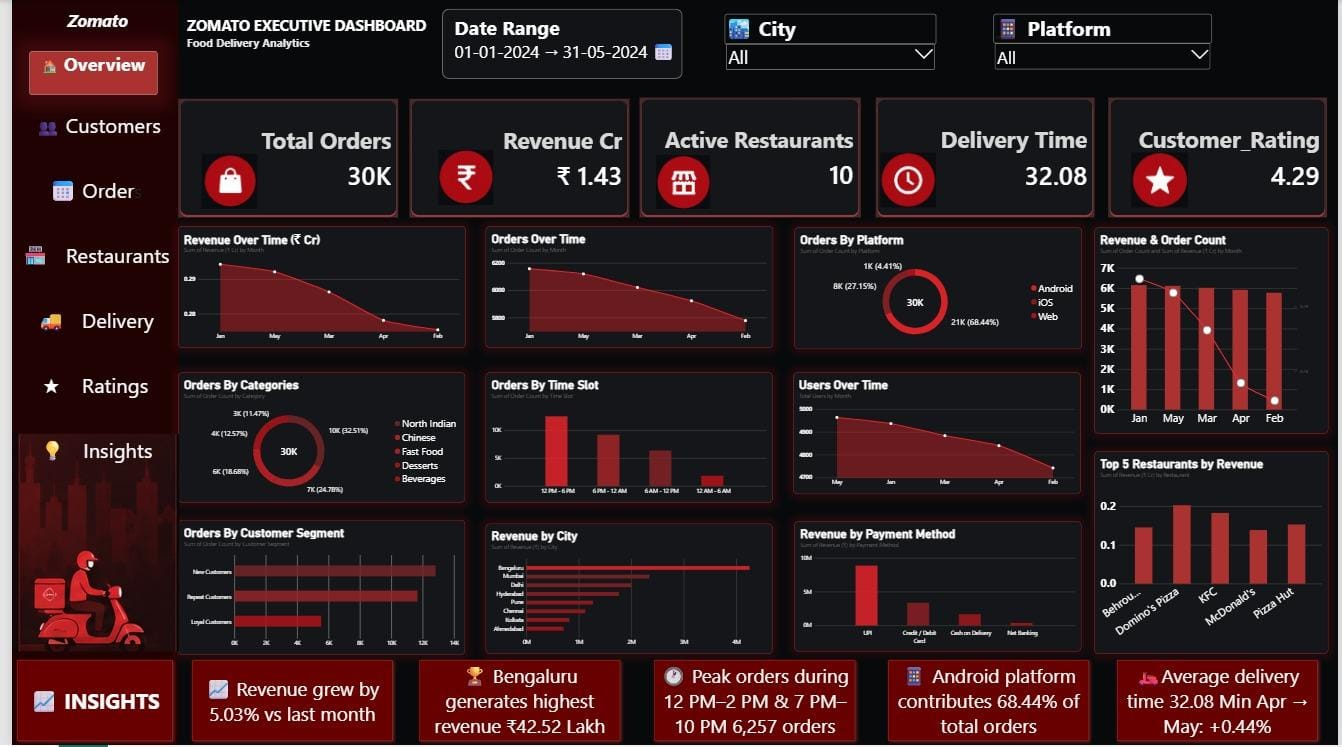

This screenshot's page, from the dashboard's own definition file:
{"tool":"powerbi","page":{"name":"Page 1","canvas":[3840,2160],"ordinal":0},"visuals":[{"type":"shape","box":[0,0,481.4,2160.7],"z":0},{"type":"textbox","box":[14.5,25.3,466.9,126.7],"z":1000},{"type":"textbox","box":[506.7,25.3,897.6,152],"z":2000},{"type":"shape","box":[1246.7,26.7,696.7,203.3],"z":3000},{"type":"textbox","box":[50,150,370,126.7],"z":4000},{"type":"cardVisual","fields":{"Data":["Orders_Data.Total Orders"]},"box":[481.4,285.9,637,343.8],"z":5000},{"type":"image","box":[539.3,444.6,181,159],"z":6000},{"type":"cardVisual","fields":{"Data":["Orders_Data.Revenue Cr"]},"box":[1150.9,285.9,637,343.8],"z":7000},{"type":"cardVisual","fields":{"Data":["Orders_Data.Active Restaurants"]},"box":[1816.9,282.3,640.6,347.5],"z":8000},{"type":"cardVisual","fields":{"Data":["Orders_Data.Avg Delivery Time"]},"box":[2501,282.3,633.4,347.5],"z":9000},{"type":"cardVisual","fields":{"Data":["Orders_Data.Customer_Rating"]},"box":[3174.1,282.3,633.4,347.5],"z":10000},{"type":"image","box":[1223.3,434.3,181,159.3],"z":11000},{"type":"image","box":[1824.1,448.8,238.9,155.6],"z":12000},{"type":"image","box":[2502.9,440.5,181,159],"z":13000},{"type":"image","box":[3231.6,440.5,181,159],"z":14000},{"type":"areaChart","title":" Revenue Over Time (₹ Cr)","fields":{"Category":["Orders_Data.Month"],"Y":["Sum(Orders_Data.Revenue (₹ Cr))"]},"box":[481.8,656.8,831.8,352.3],"z":15000},{"type":"areaChart","title":"Orders Over Time ","fields":{"Category":["Orders_Data.Month"],"Y":["Sum(Orders_Data.Order Count)"]},"box":[1371.8,656.4,831.8,352.3],"z":16000},{"type":"donutChart","title":"Orders By Platform","fields":{"Category":["Orders_Data.Platform"],"Y":["Sum(Orders_Data.Order Count)"]},"box":[2266.7,659,831.8,352.3],"z":17000},{"type":"donutChart","title":"Orders By Categories","fields":{"Category":["Orders_Data.Category"],"Y":["Sum(Orders_Data.Order Count)"]},"box":[482.1,1079.5,830.8,376.9],"z":18000},{"type":"clusteredColumnChart","title":"Orders By Time Slot","fields":{"Category":["Orders_Data.Time Slot"],"Y":["Sum(Orders_Data.Order Count)"]},"box":[1372.5,1080,830.8,376.9],"z":19000},{"type":"clusteredBarChart","title":"Orders By Customer Segment","fields":{"Category":["Orders_Data.Customer Segment"],"Y":["Sum(Orders_Data.Order Count)"]},"box":[480,1506.7,830,390],"z":20000},{"type":"clusteredBarChart","title":"Revenue by City","fields":{"Category":["Orders_Data.City"],"Y":["Sum(Orders_Data.Revenue (₹))"]},"box":[1372.4,1517.2,830.8,376.9],"z":21000},{"type":"clusteredColumnChart","title":"Revenue by Payment Method","fields":{"Y":["Sum(Orders_Data.Revenue (₹))"],"Category":["Orders_Data.Payment Method"]},"box":[2265.5,1510.3,830.8,376.9],"z":22000},{"type":"areaChart","title":"Users Over Time ","fields":{"Category":["Orders_Data.Month"],"Y":["Orders_Data.Total Users"]},"box":[2262.1,1079.3,831.8,352.3],"z":23000},{"type":"lineStackedColumnComboChart","title":"Revenue & Order Count","fields":{"Category":["Orders_Data.Month"],"Y":["Sum(Orders_Data.Order Count)"],"Y2":["Sum(Orders_Data.Revenue (₹ Cr))"]},"box":[3133.3,660,676.7,596.7],"z":24000},{"type":"clusteredColumnChart","title":"Top 5 Restaurants by Revenue","fields":{"Category":["Orders_Data.Restaurant"],"Y":["Sum(Orders_Data.Revenue (₹ Cr))"]},"box":[3133.3,1306.7,676.7,586.7],"z":25000},{"type":"image","box":[0,1256.7,483.3,630],"z":26000},{"type":"textbox","box":[0,321.9,484.4,1309.4],"z":27000},{"type":"textbox","box":[1280,40,663.3,173.3],"z":28000},{"type":"slicer","fields":{"Values":["Orders_Data.City"]},"box":[2063.3,100,613.3,113.3],"z":29000},{"type":"textbox","box":[2063.3,40,613.3,90],"z":30000},{"type":"textbox","box":[2840,40,633.3,86.7],"z":31000},{"type":"slicer","fields":{"Values":["Orders_Data.Platform"]},"box":[2840,100,633.3,130],"z":32000},{"type":"shape","box":[0,1896.7,480,263.3],"z":33000},{"type":"shape","box":[506.7,1896.7,610,263.3],"z":34000},{"type":"shape","box":[1166.7,1896.7,610,263.3],"z":35000},{"type":"shape","box":[1846.7,1896.7,610,263.3],"z":36000},{"type":"shape","box":[2523.3,1896.7,610,263.3],"z":37000},{"type":"shape","box":[3183.3,1896.7,610,263.3],"z":38000}]}

Visuals, with their boxes on the page's 3840x2160 design canvas (x1, y1, x2, y2). These are canvas units, not pixel positions in the 1342x747 screenshot, which may show the page scaled, cropped or inside an application window:
shape: box=[0, 0, 481, 2161]
textbox: box=[14, 25, 481, 152]
textbox: box=[507, 25, 1404, 177]
shape: box=[1247, 27, 1943, 230]
textbox: box=[50, 150, 420, 277]
cardVisual - Orders_Data.Total Orders: box=[481, 286, 1118, 630]
image: box=[539, 445, 720, 604]
cardVisual - Orders_Data.Revenue Cr: box=[1151, 286, 1788, 630]
cardVisual - Orders_Data.Active Restaurants: box=[1817, 282, 2458, 630]
cardVisual - Orders_Data.Avg Delivery Time: box=[2501, 282, 3134, 630]
cardVisual - Orders_Data.Customer_Rating: box=[3174, 282, 3808, 630]
image: box=[1223, 434, 1404, 594]
image: box=[1824, 449, 2063, 604]
image: box=[2503, 440, 2684, 600]
image: box=[3232, 440, 3413, 600]
" Revenue Over Time (₹ Cr)" areaChart: box=[482, 657, 1314, 1009]
"Orders Over Time " areaChart: box=[1372, 656, 2204, 1009]
"Orders By Platform" donutChart: box=[2267, 659, 3098, 1011]
"Orders By Categories" donutChart: box=[482, 1080, 1313, 1456]
"Orders By Time Slot" clusteredColumnChart: box=[1372, 1080, 2203, 1457]
"Orders By Customer Segment" clusteredBarChart: box=[480, 1507, 1310, 1897]
"Revenue by City" clusteredBarChart: box=[1372, 1517, 2203, 1894]
"Revenue by Payment Method" clusteredColumnChart: box=[2266, 1510, 3096, 1887]
"Users Over Time " areaChart: box=[2262, 1079, 3094, 1432]
"Revenue & Order Count" lineStackedColumnComboChart: box=[3133, 660, 3810, 1257]
"Top 5 Restaurants by Revenue" clusteredColumnChart: box=[3133, 1307, 3810, 1893]
image: box=[0, 1257, 483, 1887]
textbox: box=[0, 322, 484, 1631]
textbox: box=[1280, 40, 1943, 213]
slicer - Orders_Data.City: box=[2063, 100, 2677, 213]
textbox: box=[2063, 40, 2677, 130]
textbox: box=[2840, 40, 3473, 127]
slicer - Orders_Data.Platform: box=[2840, 100, 3473, 230]
shape: box=[0, 1897, 480, 2160]
shape: box=[507, 1897, 1117, 2160]
shape: box=[1167, 1897, 1777, 2160]
shape: box=[1847, 1897, 2457, 2160]
shape: box=[2523, 1897, 3133, 2160]
shape: box=[3183, 1897, 3793, 2160]
